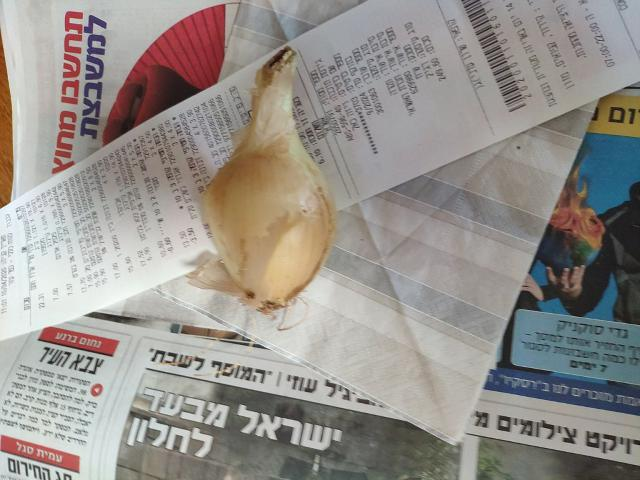onion: (209, 111, 330, 298)
